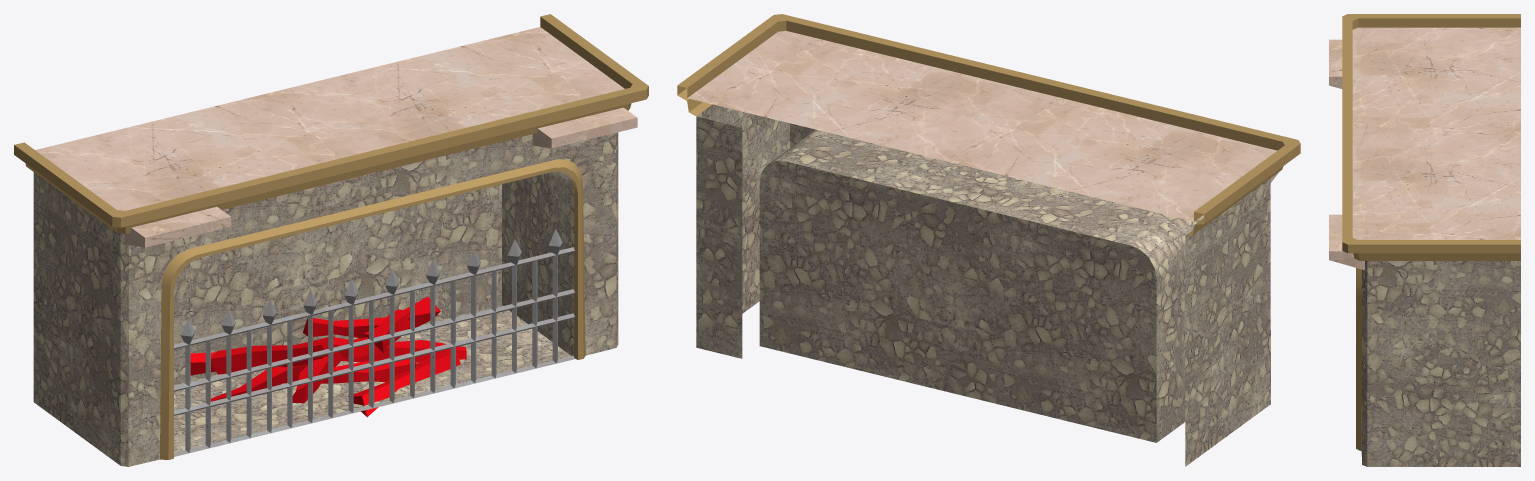
File: SM_Fireplace.fbx
The picture shows the model from 3 angles, left to right: view 1: azimuth 30°, elevation 25°; view 2: azimuth 150°, elevation 25°; view 3: azimuth 270°, elevation 25°; orthographic projection. The views are drawn at different scales.
Visible parts, largest first — view 1: Fireplace_1; view 2: Fireplace_1; view 3: Fireplace_1.
Boxes of the visible parts, left/top/right/bottom form: Fireplace_1: left=14, top=14, right=648, bottom=466; Fireplace_1: left=677, top=14, right=1300, bottom=466; Fireplace_1: left=1329, top=14, right=1520, bottom=466.
Bounding box in the file's own units: 229 × 112 × 80.38.
